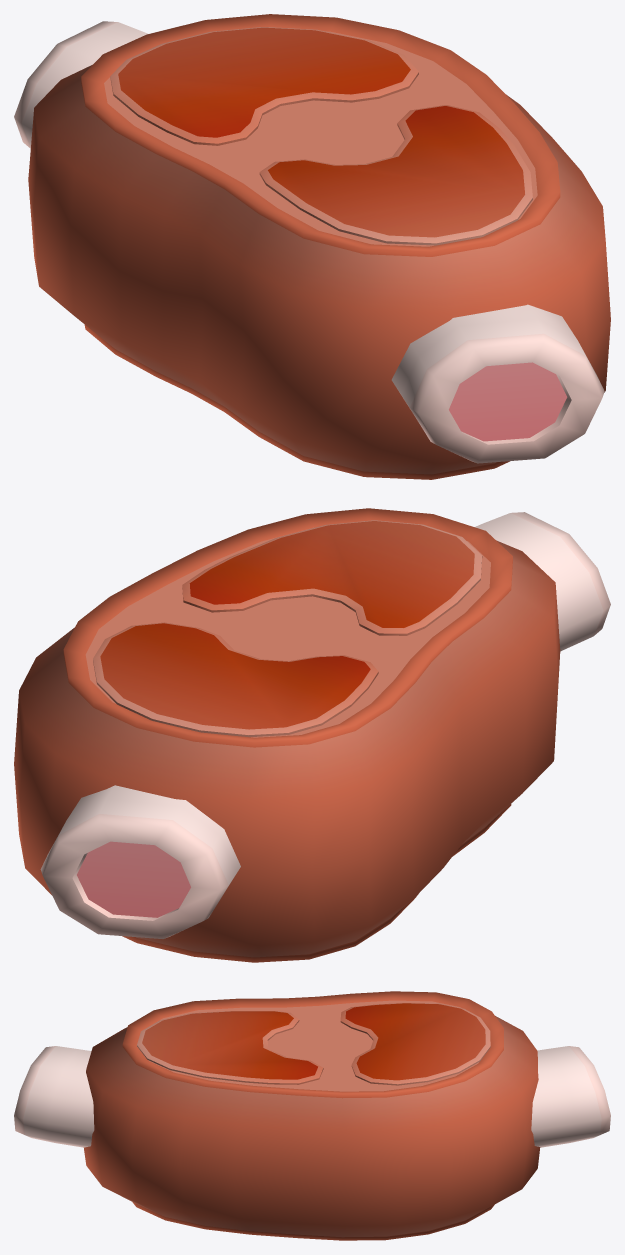
File: Steak_V1_00.fbx
3 views of the same model, one above another, from view 1: azimuth 30°, elevation 25°; view 2: azimuth 150°, elevation 25°; view 3: azimuth 270°, elevation 25° (orthographic). The views are drawn at different scales.
Visible parts, largest first — view 1: Steak_V1_00; view 2: Steak_V1_00; view 3: Steak_V1_00.
Boxes of the visible parts, x1=… form: Steak_V1_00: x1=14, y1=14, x2=610, y2=479; Steak_V1_00: x1=14, y1=508, x2=610, y2=962; Steak_V1_00: x1=14, y1=991, x2=610, y2=1240.
Bounding box in the file's own units: 39.32 × 21.3 × 78.92.
